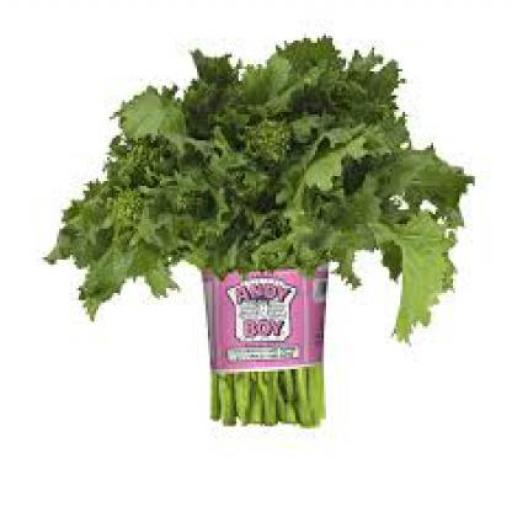biodegradable: (37, 33, 473, 424)
